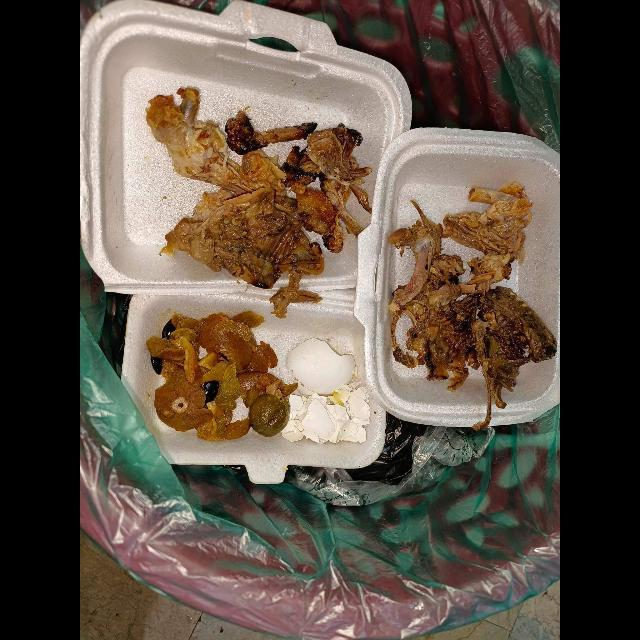left_over_food: (159, 183, 325, 316), (389, 285, 556, 413), (147, 88, 316, 198), (386, 198, 470, 342), (285, 129, 369, 253), (441, 182, 532, 293)
